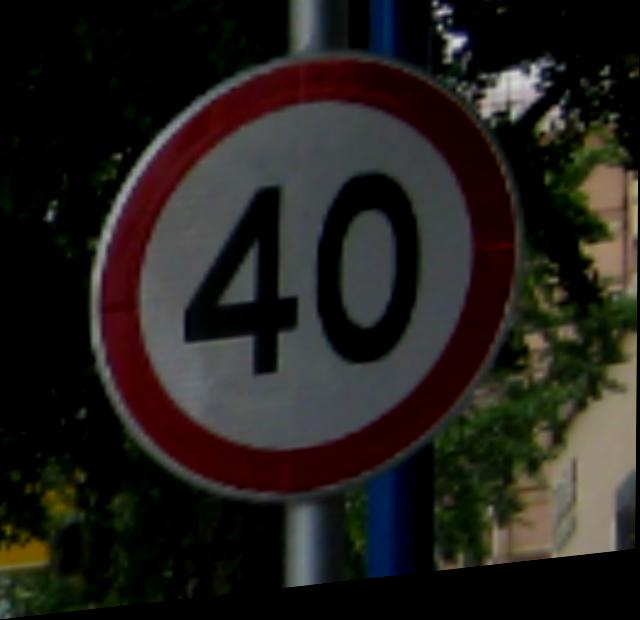limit40: (71, 38, 533, 534)
